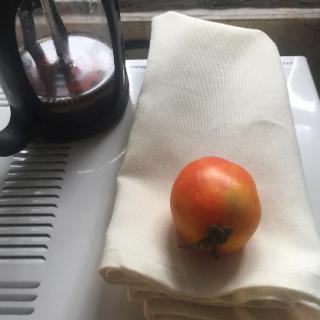Tomat: (160, 153, 281, 264)
